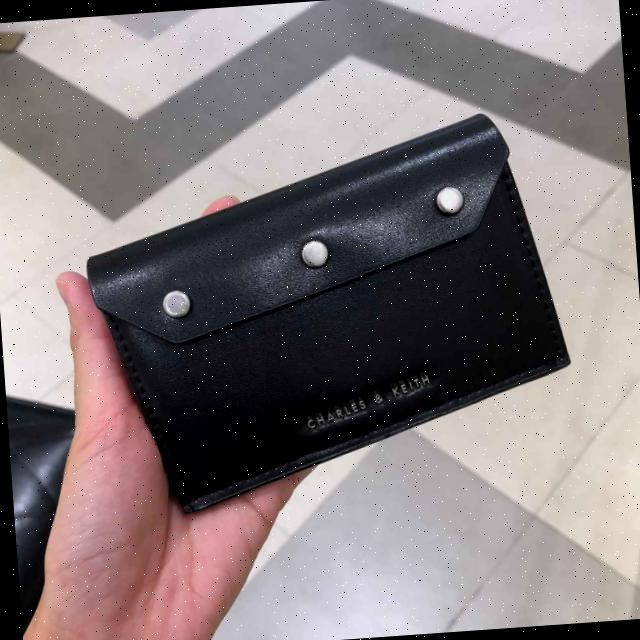Handbag: (75, 118, 578, 522)
